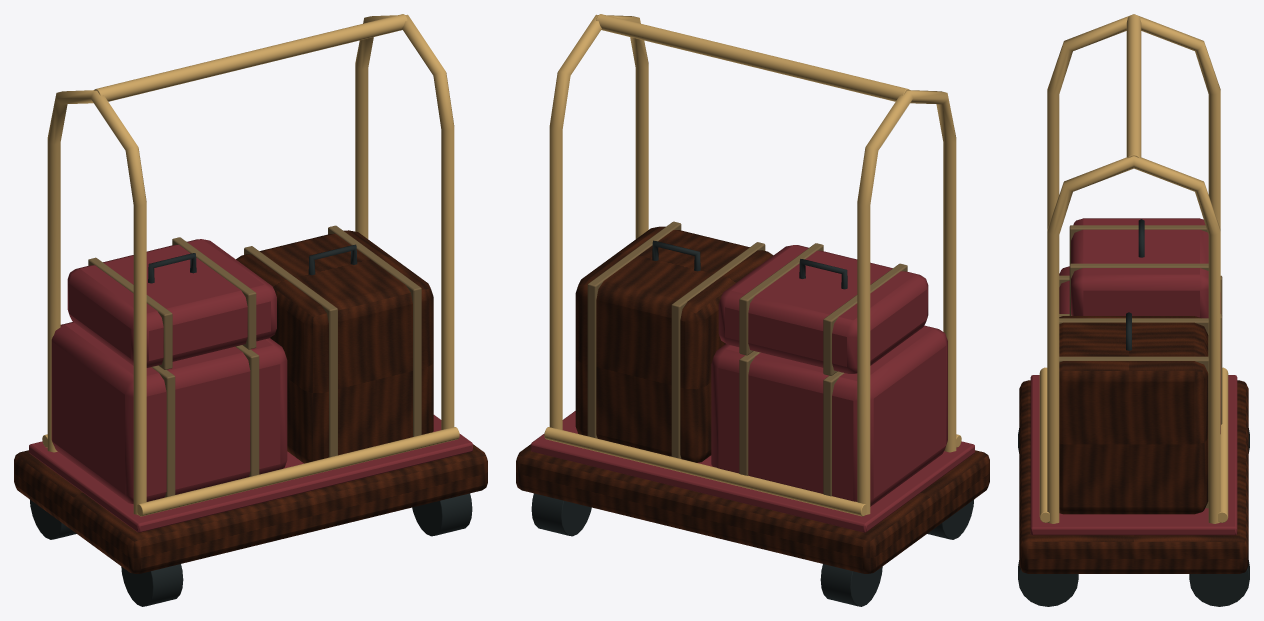
Rendered from hotel-luggage-cart.glb.
3 views of the same model, side by side, from view 1: azimuth 30°, elevation 25°; view 2: azimuth 150°, elevation 25°; view 3: azimuth 270°, elevation 25° (orthographic). The views are drawn at different scales.
Parts seen in each view (by area): view 1: Static | Oxblood leather.006, Static | Walnut | original longitudinal grain.006, Static | Aged champagne brass.006, Static | Dark patinated bronze.006, Static | Ebony and deep recesses.006; view 2: Static | Oxblood leather.006, Static | Walnut | original longitudinal grain.006, Static | Aged champagne brass.006, Static | Dark patinated bronze.006, Static | Ebony and deep recesses.006; view 3: Static | Walnut | original longitudinal grain.006, Static | Aged champagne brass.006, Static | Oxblood leather.006, Static | Ebony and deep recesses.006, Static | Dark patinated bronze.006.
Part boxes in pixels (x1=…): Static | Oxblood leather.006: x1=29, y1=239, x2=472, y2=532; Static | Walnut | original longitudinal grain.006: x1=14, y1=230, x2=487, y2=573; Static | Aged champagne brass.006: x1=42, y1=14, x2=459, y2=516; Static | Dark patinated bronze.006: x1=88, y1=225, x2=421, y2=497; Static | Ebony and deep recesses.006: x1=29, y1=244, x2=472, y2=606; Static | Oxblood leather.006: x1=531, y1=245, x2=974, y2=532; Static | Walnut | original longitudinal grain.006: x1=516, y1=226, x2=989, y2=573; Static | Aged champagne brass.006: x1=544, y1=14, x2=961, y2=516; Static | Dark patinated bronze.006: x1=587, y1=221, x2=907, y2=496; Static | Ebony and deep recesses.006: x1=531, y1=240, x2=974, y2=606; Static | Walnut | original longitudinal grain.006: x1=1019, y1=316, x2=1248, y2=573; Static | Aged champagne brass.006: x1=1039, y1=14, x2=1228, y2=523; Static | Oxblood leather.006: x1=1030, y1=218, x2=1237, y2=535; Static | Ebony and deep recesses.006: x1=1018, y1=219, x2=1249, y2=606; Static | Dark patinated bronze.006: x1=1059, y1=225, x2=1222, y2=508.
Bounding box in the file's own units: 1.54 × 1.97 × 0.92.
Materials: 5 (1 with a texture image).
